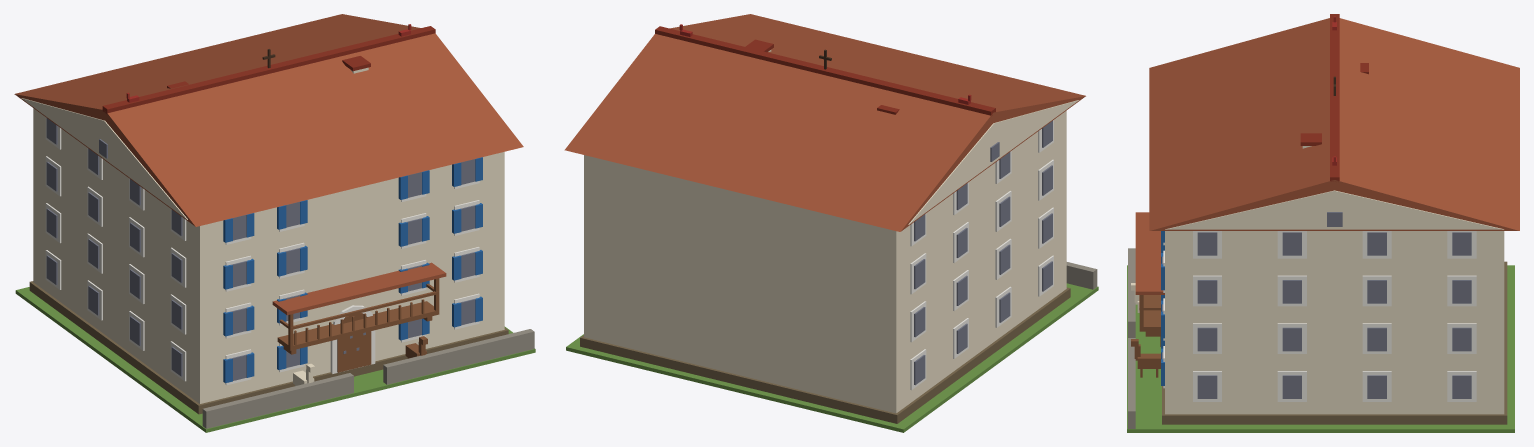
Rendered from house-2x2-4f-andean-a.glb.
3 views of the same model, side by side, from view 1: azimuth 30°, elevation 25°; view 2: azimuth 150°, elevation 25°; view 3: azimuth 270°, elevation 25° (orthographic). The views are drawn at different scales.
Parts seen in each view (by area): view 1: house-2x2-4f-andean-a; view 2: house-2x2-4f-andean-a; view 3: house-2x2-4f-andean-a.
Boxes of the visible parts, <box> form: house-2x2-4f-andean-a: <box>14,14,535,432</box>; house-2x2-4f-andean-a: <box>564,14,1098,432</box>; house-2x2-4f-andean-a: <box>1127,14,1519,432</box>.
Bounding box in the file's own units: 2.01 × 1.55 × 2.01.
1 material, 1 textured.
